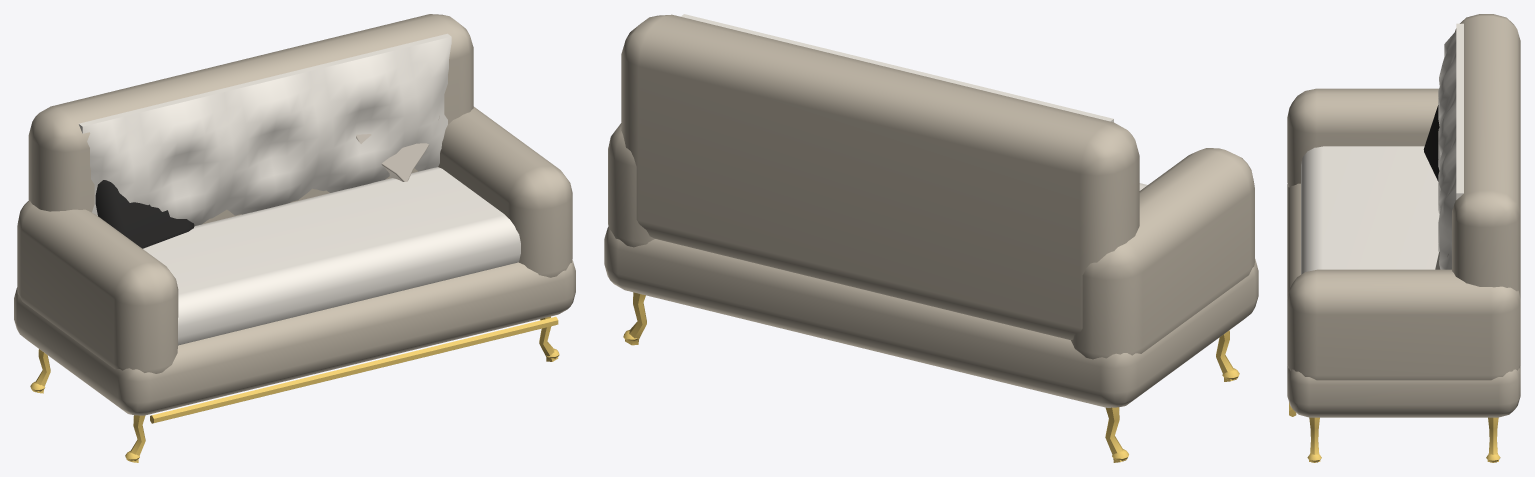
The model's file is sofa_waiting_pearl.glb.
3 renders of one model, left to right at view 1: azimuth 30°, elevation 25°; view 2: azimuth 150°, elevation 25°; view 3: azimuth 270°, elevation 25°, orthographic. The views are drawn at different scales.
Visible parts, largest first — view 1: sofa_waiting_pearl; view 2: sofa_waiting_pearl; view 3: sofa_waiting_pearl.
Boxes of the visible parts, x1=… form: sofa_waiting_pearl: x1=14, y1=14, x2=575, y2=462; sofa_waiting_pearl: x1=604, y1=14, x2=1258, y2=462; sofa_waiting_pearl: x1=1287, y1=14, x2=1520, y2=462.
Bounding box in the file's own units: 1.8 × 1.06 × 0.85.
